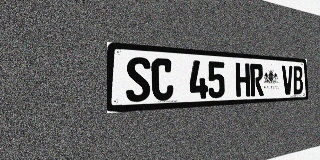4: (189, 60, 208, 99)
5: (208, 61, 225, 98)
B: (293, 66, 303, 94)
C: (151, 58, 174, 101)
H: (235, 63, 250, 97)
R: (250, 63, 264, 96)
S: (126, 56, 151, 102)
V: (282, 65, 293, 95)
